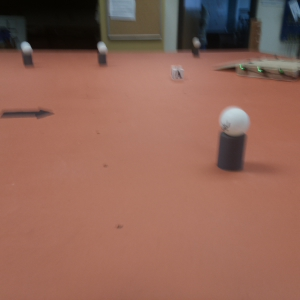blockA: (171, 65, 183, 82)
corner: (247, 18, 264, 57)
obstacle: (215, 104, 255, 174), (16, 43, 37, 70), (96, 41, 110, 66), (189, 38, 202, 57)
side: (238, 64, 299, 83)
slope: (216, 59, 237, 76)
start: (1, 106, 54, 125)
